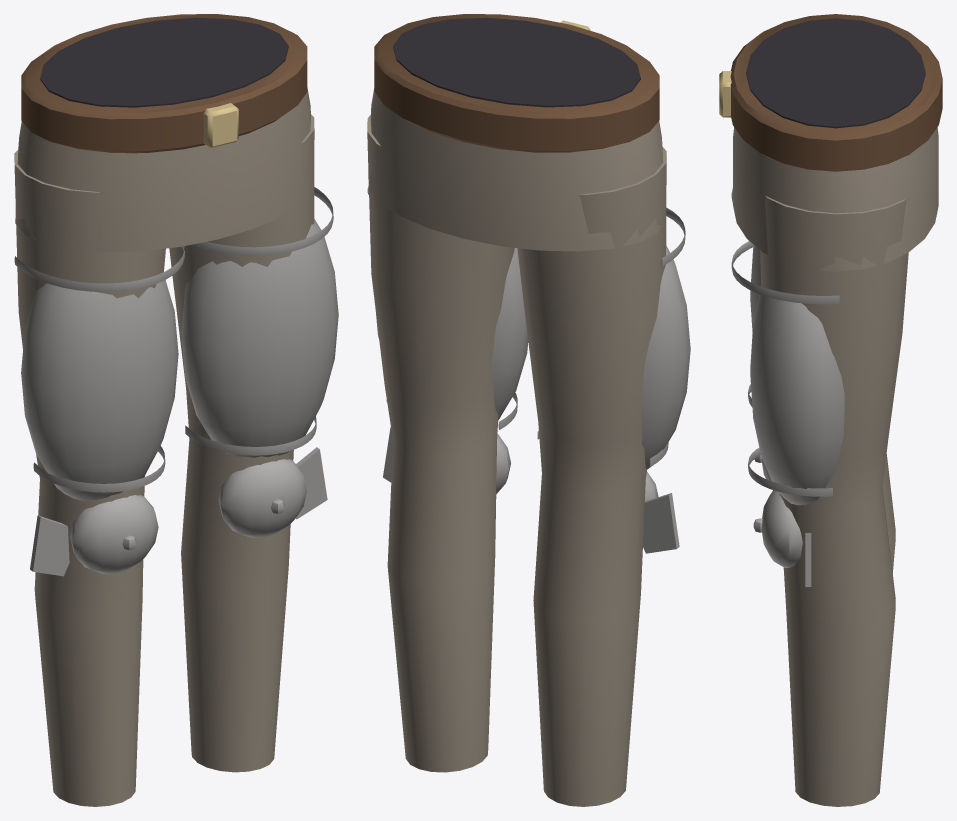
The model's file is iron_cuisses.glb.
3 views of the same model, side by side, from view 1: azimuth 30°, elevation 25°; view 2: azimuth 150°, elevation 25°; view 3: azimuth 270°, elevation 25° (orthographic). The views are drawn at different scales.
Visible parts, largest first — view 1: iron_cuisses; view 2: iron_cuisses; view 3: iron_cuisses.
Part boxes in pixels (x1,y1,x2,y2): iron_cuisses: [14, 14, 338, 806]; iron_cuisses: [367, 14, 690, 806]; iron_cuisses: [719, 14, 942, 806].
Bounding box in the file's own units: 0.3184 × 0.7066 × 0.2084.
